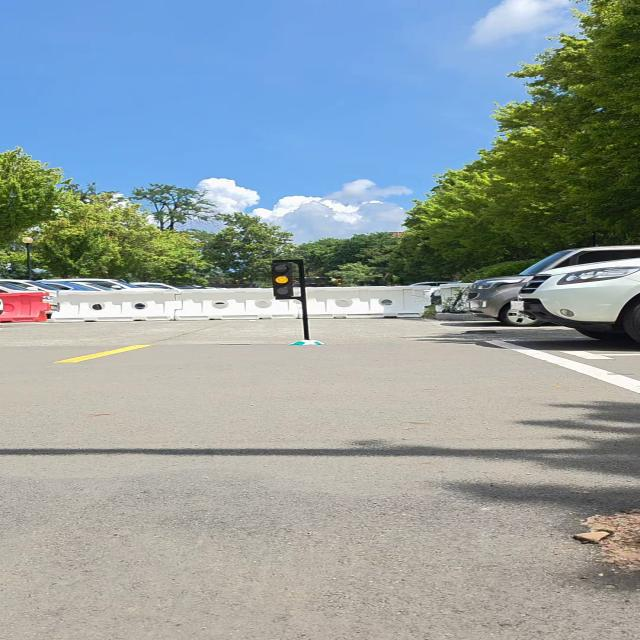yellow: (270, 262, 296, 298)
